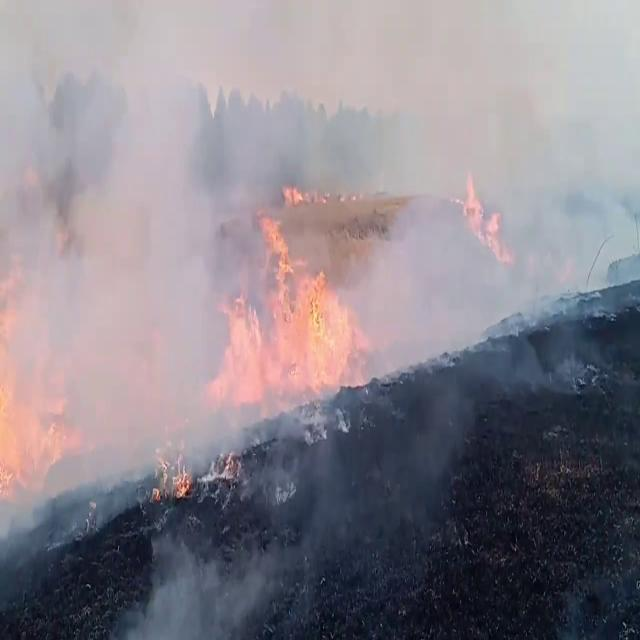Fire: (211, 168, 368, 404), (0, 331, 32, 497)
Smoke: (0, 0, 456, 535), (349, 0, 628, 331)
